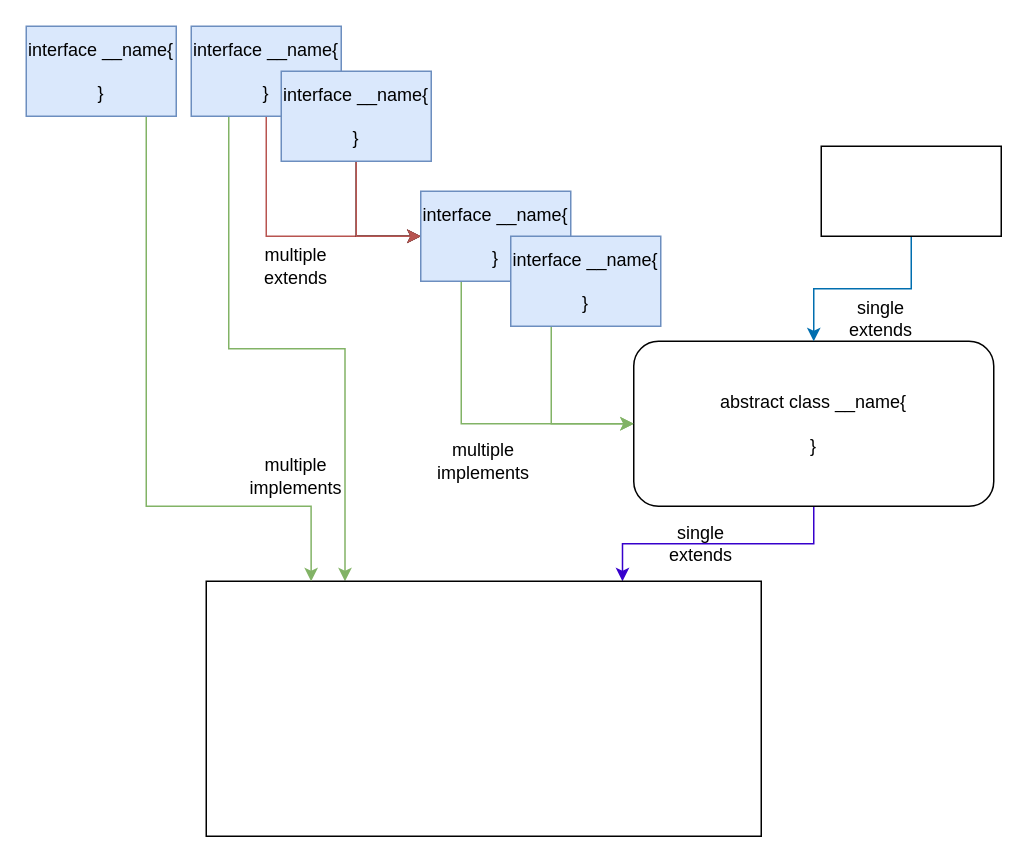
Some shapes in this 1028 by 863 pixel diagram are drawn without their labels. The shapes that lost their labels are listed below. From the top down, each one's centre as x and y in pixels, then its label:
At pixel 910 190: "class __name{ }".
At pixel 483 708: "class ClassName extends Superclass implements Interface1 , Interface2 , ....".
